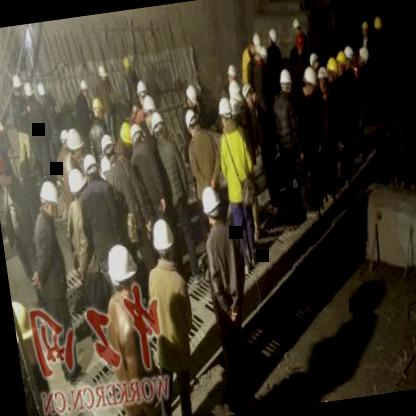helmet: (102, 237, 142, 300), (144, 212, 178, 272), (198, 178, 226, 230), (36, 178, 62, 224), (294, 65, 322, 104), (64, 164, 90, 201), (214, 90, 236, 132), (63, 126, 87, 162), (79, 148, 101, 187), (179, 77, 202, 114), (127, 115, 150, 152), (180, 106, 203, 142), (148, 109, 171, 143), (99, 131, 121, 164), (116, 119, 136, 154), (312, 63, 332, 96), (274, 66, 294, 98), (139, 93, 160, 123), (132, 76, 152, 105), (7, 66, 23, 100), (323, 54, 342, 82), (22, 74, 38, 106), (240, 79, 258, 107), (354, 44, 372, 72), (332, 47, 350, 74), (0, 148, 12, 188), (88, 95, 106, 121), (291, 32, 309, 57), (370, 10, 387, 35), (264, 24, 280, 47), (342, 44, 356, 70), (77, 76, 90, 98), (224, 62, 238, 82), (290, 13, 303, 34)
